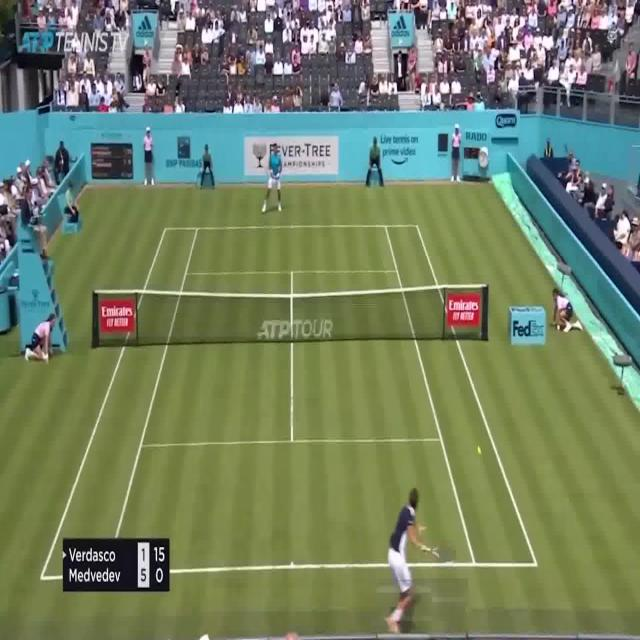bottom-dead-zone: (106, 440, 474, 575)
court: (40, 224, 539, 580)
left-doubles-alley: (41, 227, 197, 578)
left-service-box: (140, 271, 293, 445)
net: (91, 283, 488, 349)
right-doubles-alley: (384, 224, 539, 567)
right-service-box: (291, 270, 443, 440)
top-dead-zone: (185, 226, 398, 274)
